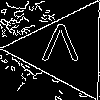V: (41, 24, 80, 70)
